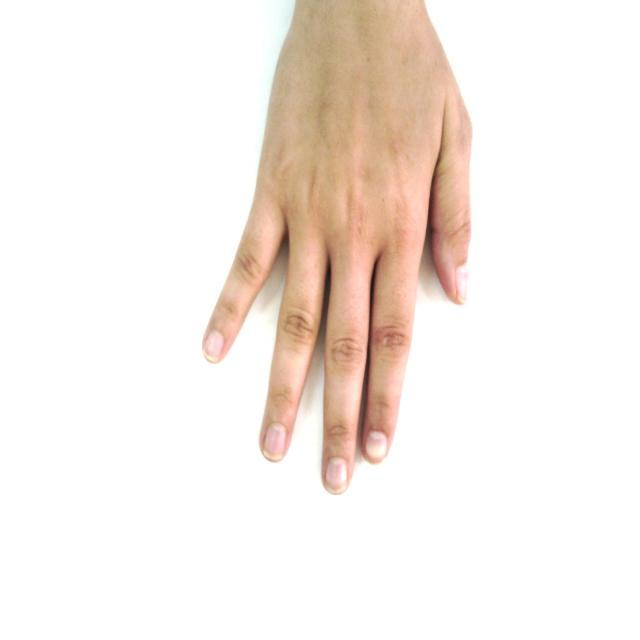Fingernail: (326, 458, 347, 493), (266, 425, 286, 458), (366, 431, 386, 461), (205, 332, 222, 359), (457, 265, 467, 301)
